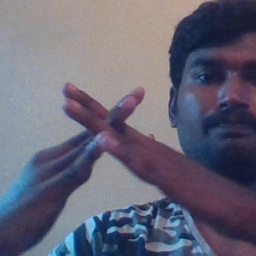W: (39, 71, 177, 199)
